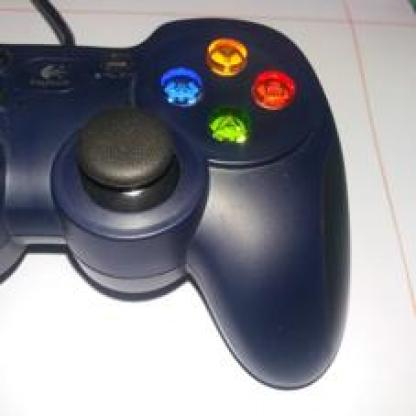gamepad: (6, 19, 390, 393)
